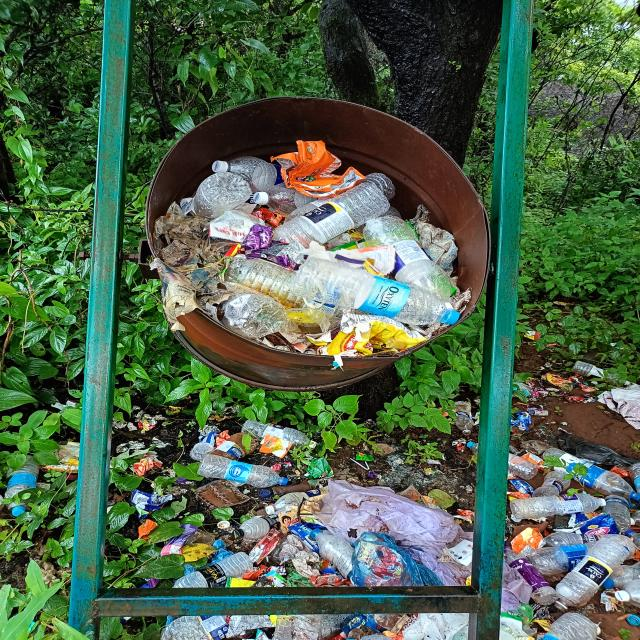garbage: (39, 401, 640, 640), (127, 136, 500, 374)
